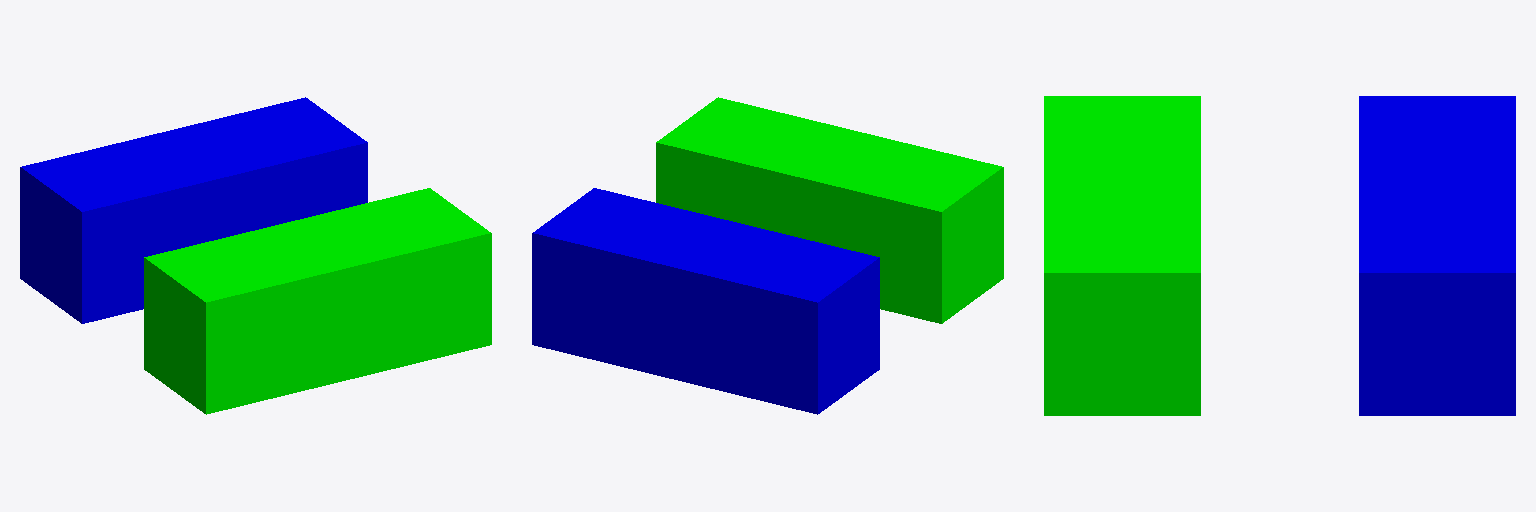
robot.urdf — elbow:
<?xml version="1.0"?>
<robot name="elbow" xmlns:drake="https://drake.mit.edu/">
    <link name="elbow_1">
        <inertial>
            <origin xyz="0 0 0" rpy="0 0 0"/>
            <mass value="0.37"/>
            <inertia
                ixx="0.0006167"
                ixy="0"
                ixz="0"
                iyy="0.0006167"
                iyz="0"
                izz="0.0006167"/>
        </inertial>
        <visual>
            <origin xyz="0 0 0" rpy="0 0 0" />
            <geometry>
                <box size="0.08 0.03 0.03"/>
            </geometry>
            <material name="green">
                <color rgba="0 1 0 1.0" />
            </material>
        </visual>
        <collision>
            <geometry>
                <box size="0.08 0.03 0.03"/>
            </geometry>
            <origin xyz="0 0 0" rpy="0 0 0" />
            <drake:proximity_properties>
                <drake:mu_static value="0.3" />
            </drake:proximity_properties>
        </collision>
    </link>

    <link name="elbow_2">
        <inertial>
            <origin xyz="0.035 0 0" rpy="0 0 0"/>
            <mass value="0.37"/>
            <inertia
                ixx="0.0006167"
                ixy="0"
                ixz="0"
                iyy="0.0006167"
                iyz="0"
                izz="0.0006167"/>
        </inertial>
        <visual>
            <origin xyz="0.035 0 0" rpy="0 0 0" />
            <geometry>
                <box size="0.08 0.03 0.03"/>
            </geometry>
            <material name="blue">
                <color rgba="0 0 1 1.0" />
            </material>
        </visual>
        <collision>
            <geometry>
                <box size="0.08 0.03 0.03"/>
            </geometry>
            <drake:proximity_properties>
                <drake:mu_static value="0.3" />
            </drake:proximity_properties>
            <origin xyz="0.035 0 0" rpy="0 0 0" />
        </collision>
    </link>

    <joint name="hinge_1_to_2" type="continuous">
        <parent link="elbow_1"/>
        <child link="elbow_2"/>
        <origin xyz="-0.035 0.06 0" rpy="0 0 0" />
        <axis xyz="0 1 0" />
    </joint>

    <drake:collision_filter_group name="elbow_group">
        <drake:member link="elbow_1"/>
        <drake:member link="elbow_2"/>
        <drake:ignored_collision_filter_group name="elbow_group"/>
    </drake:collision_filter_group>

</robot>

--- Render facts (derived) ---
The picture shows the robot from 3 angles, left to right: view 1: azimuth 30°, elevation 25°; view 2: azimuth 150°, elevation 25°; view 3: azimuth 270°, elevation 25°; orthographic projection.
Model elbow with 2 links and 1 joints (1 continuous), rooted at elbow_1, posed all joints at 0.
Visible links, largest first — view 1: elbow_1, elbow_2; view 2: elbow_2, elbow_1; view 3: elbow_1, elbow_2.
Link boxes in pixels (<box>): elbow_1: <box>144,188,491,414</box>; elbow_2: <box>20,97,367,323</box>; elbow_2: <box>532,188,879,414</box>; elbow_1: <box>656,97,1003,323</box>; elbow_1: <box>1044,96,1200,415</box>; elbow_2: <box>1359,96,1515,415</box>.
Size in the robot's own frame: 0.08 by 0.09 by 0.03 metres.
Geometry: primitives only (box / cylinder / sphere), no mesh files.